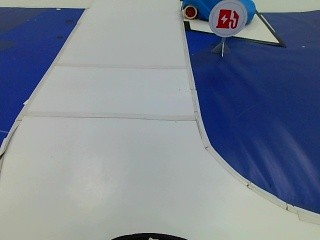battery: (211, 3, 244, 33)
